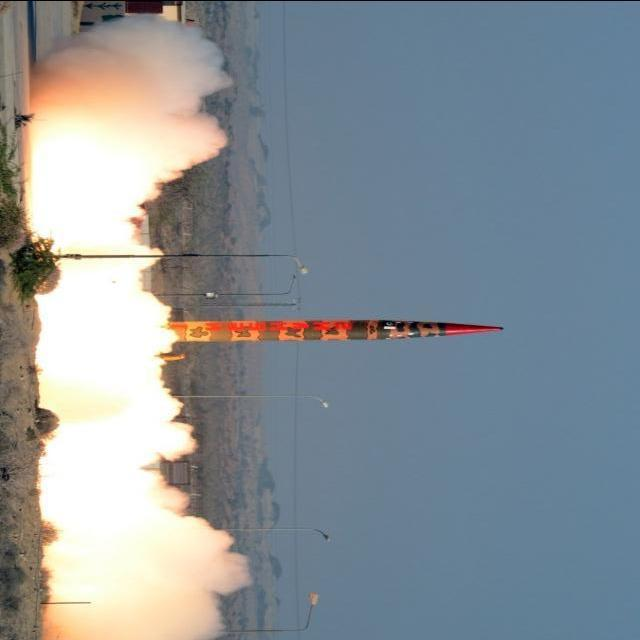missile: (156, 312, 517, 347)
